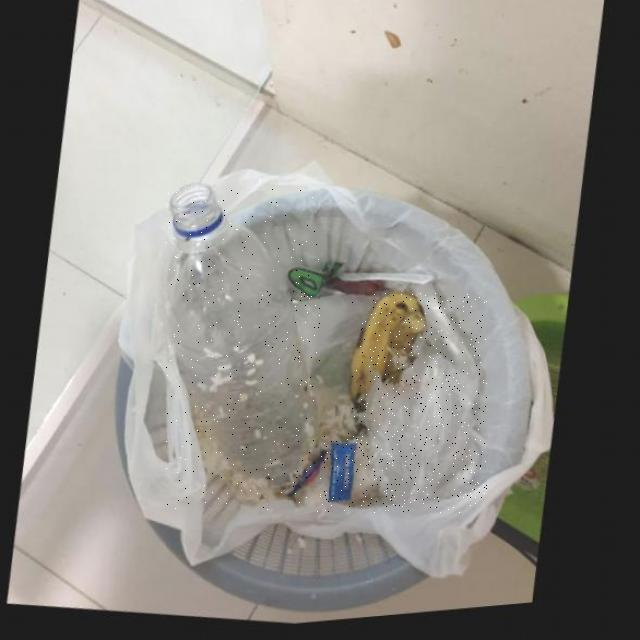biowaste: (352, 301, 430, 423), (295, 433, 380, 512)
plastic: (166, 189, 320, 511), (366, 293, 487, 512)
wrapper: (330, 450, 358, 510)
